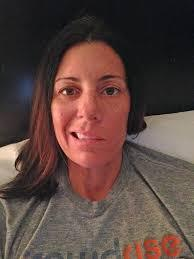normalEye: (100, 19, 142, 46)
strokeEyeWeak: (53, 72, 126, 101)
strokeMouthSevere: (65, 127, 110, 152)
